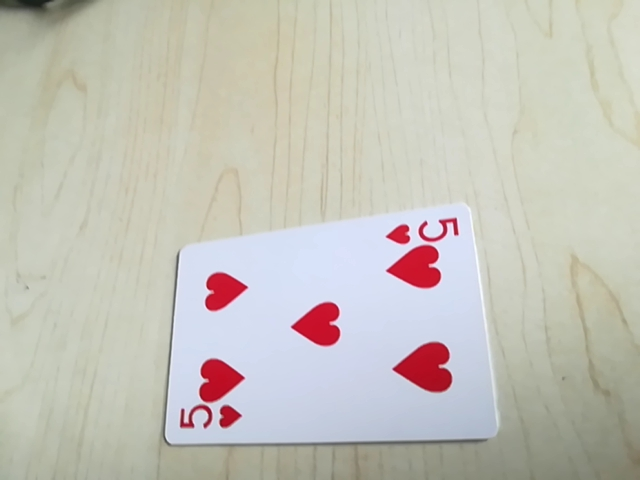hx 5: (384, 210, 464, 248), (174, 402, 245, 437)
